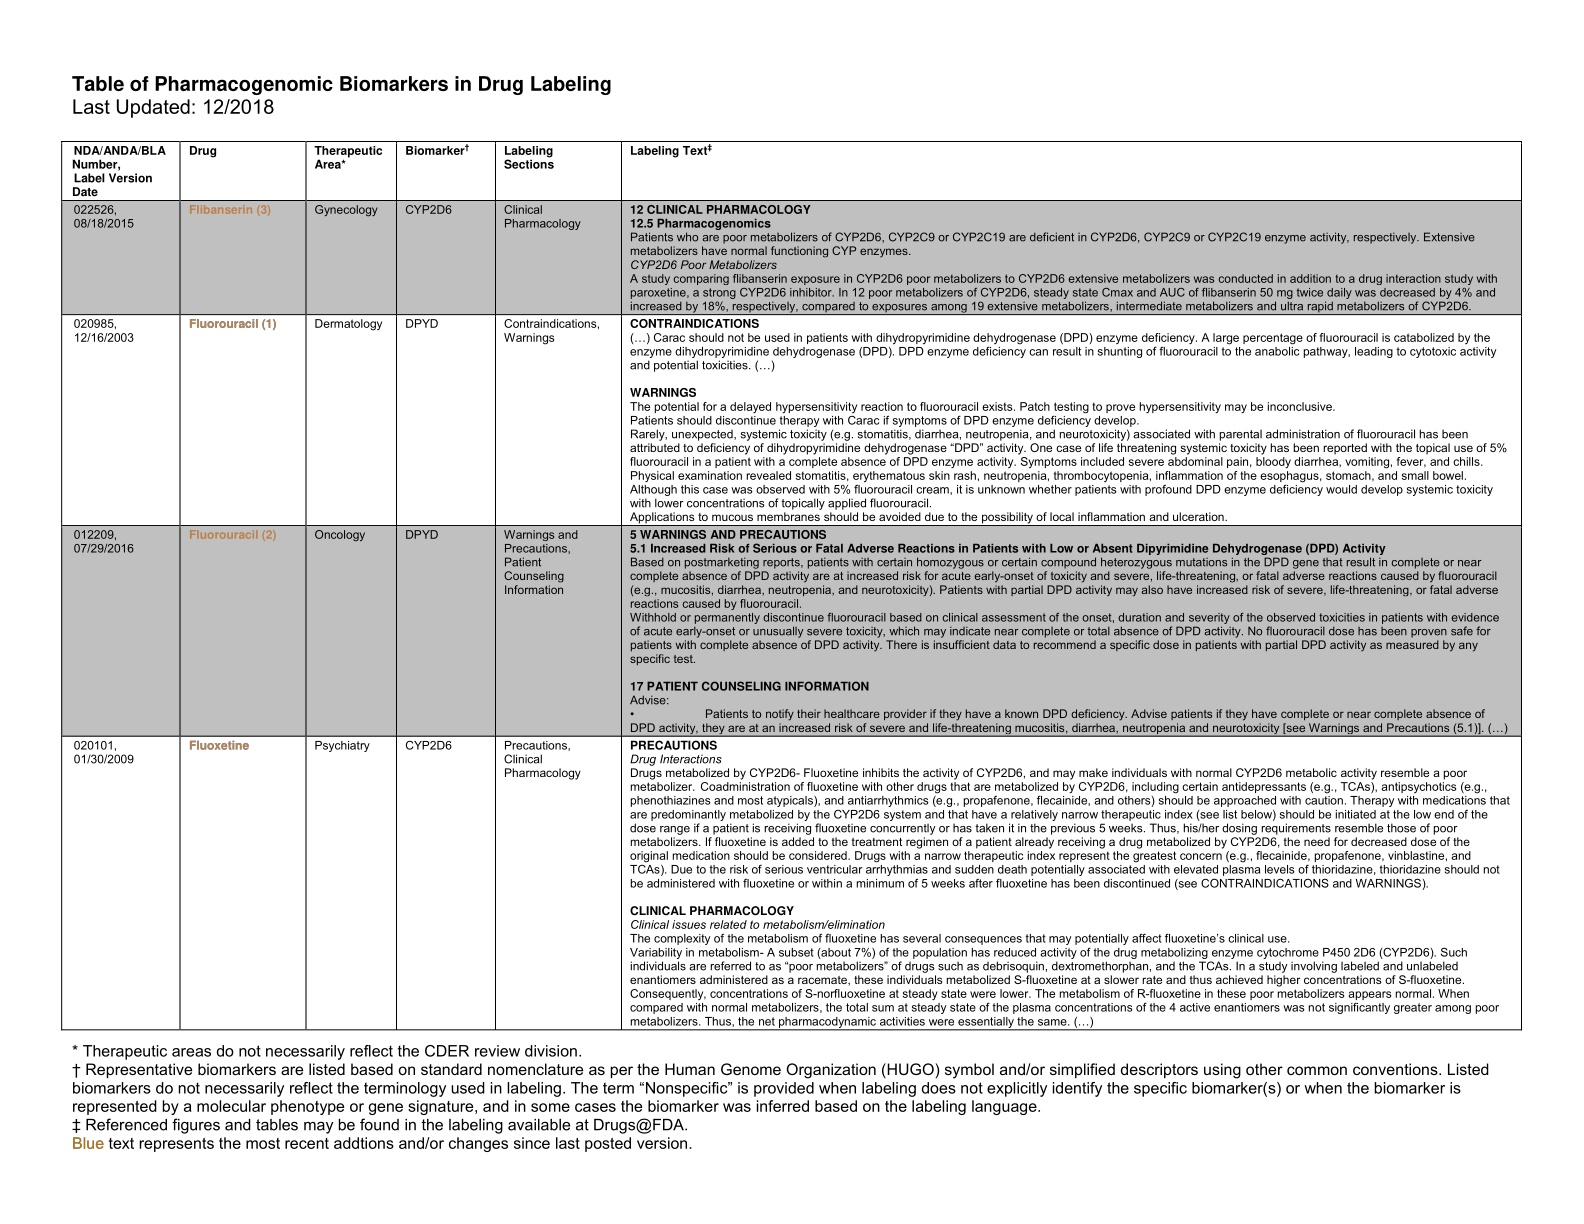full_lined: (60, 140, 1524, 1031)
